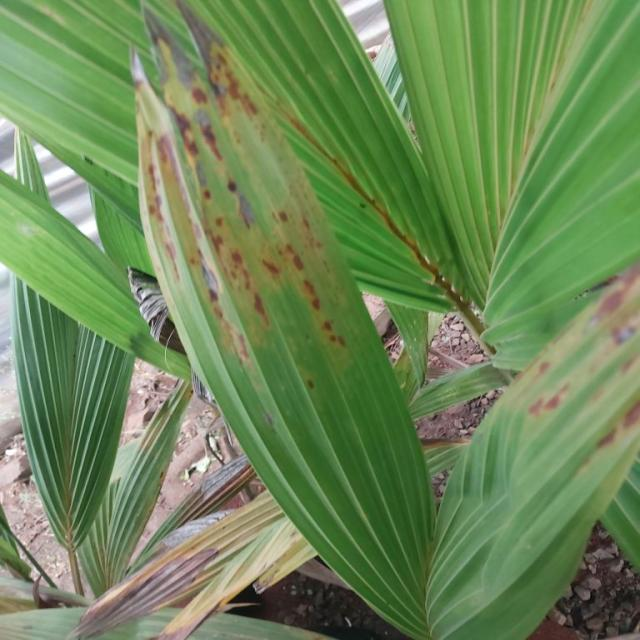gray leaf spot: (148, 56, 440, 640)
